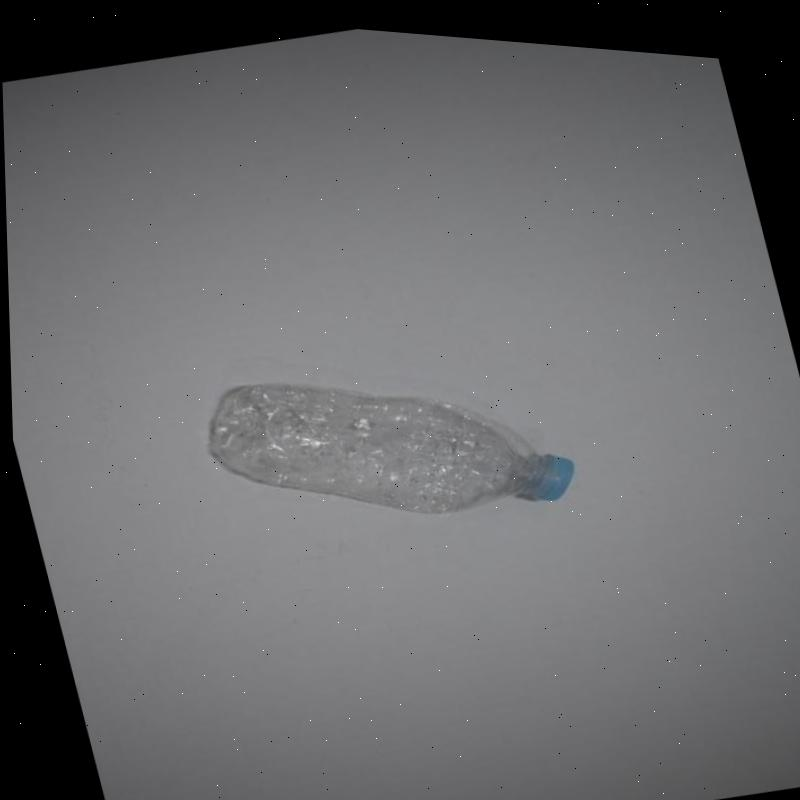botella: (187, 308, 582, 569)
